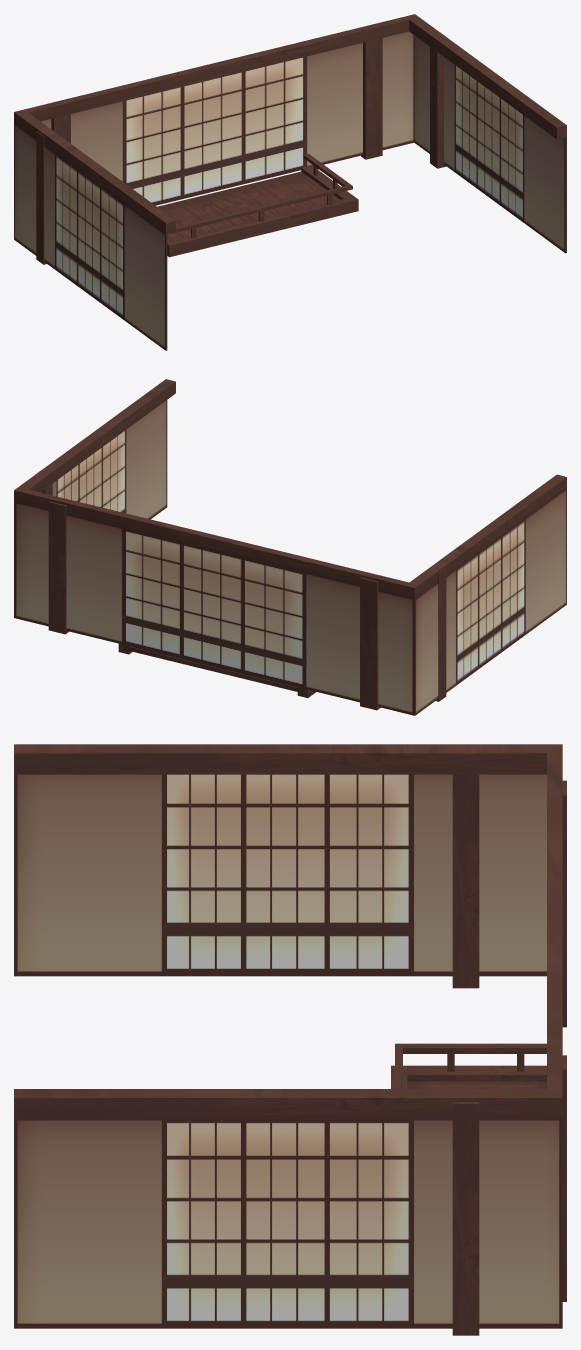
Rendered from Ninja_wall_1.FBX.
The picture shows the model from 3 angles, top to bottom: view 1: azimuth 30°, elevation 25°; view 2: azimuth 150°, elevation 25°; view 3: azimuth 270°, elevation 25°; orthographic projection. The views are drawn at different scales.
Parts seen in each view (by area): view 1: C-Ext007, C-Ext011, Box046, Box035, Box053, Box009, Box006, Box040, Box047; view 2: C-Ext007, C-Ext011, Box017, Box053, Box006, Box046; view 3: C-Ext007, C-Ext011, Box009, Box006, Box041, Box045, Box017, Box053, Box046.
Boxes of the visible parts, x1=… form: C-Ext007: x1=14, y1=31, x2=566, y2=350; C-Ext011: x1=14, y1=14, x2=566, y2=234; Box046: x1=157, y1=171, x2=339, y2=239; Box035: x1=169, y1=197, x2=353, y2=255; Box053: x1=361, y1=38, x2=382, y2=159; Box009: x1=430, y1=35, x2=447, y2=168; Box006: x1=36, y1=131, x2=46, y2=264; Box040: x1=176, y1=184, x2=352, y2=232; Box047: x1=301, y1=165, x2=358, y2=211; C-Ext007: x1=14, y1=400, x2=566, y2=715; C-Ext011: x1=14, y1=379, x2=566, y2=597; Box017: x1=360, y1=577, x2=380, y2=710; Box053: x1=48, y1=501, x2=68, y2=634; Box006: x1=436, y1=568, x2=446, y2=701; Box046: x1=123, y1=645, x2=303, y2=693; C-Ext007: x1=14, y1=774, x2=562, y2=1328; C-Ext011: x1=14, y1=744, x2=562, y2=1119; Box009: x1=452, y1=1102, x2=479, y2=1335; Box006: x1=452, y1=774, x2=479, y2=988; Box041: x1=391, y1=1065, x2=546, y2=1081; Box045: x1=395, y1=1043, x2=546, y2=1053; Box017: x1=562, y1=780, x2=566, y2=1027; Box053: x1=562, y1=1055, x2=566, y2=1301; Box046: x1=407, y1=1081, x2=546, y2=1088.
Bounding box in the file's own units: 1075 × 348 × 705.
3 materials, 3 textured.
